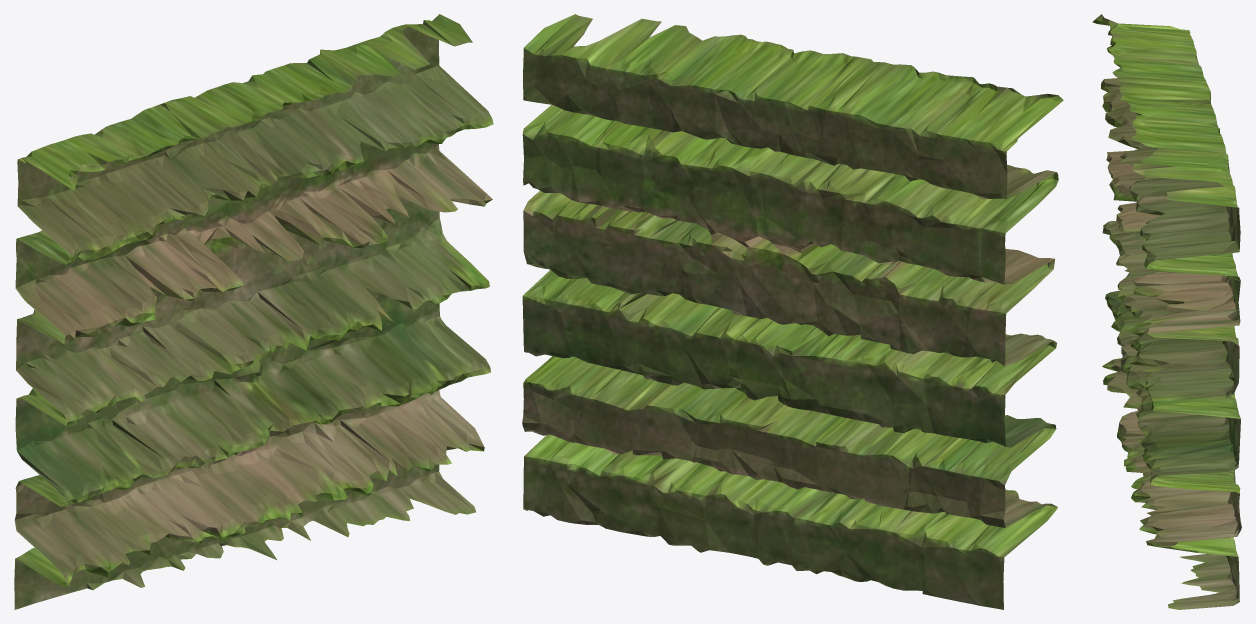
Rendered from map_250_70.obj.
3 renders of one model, left to right at view 1: azimuth 30°, elevation 25°; view 2: azimuth 150°, elevation 25°; view 3: azimuth 270°, elevation 25°, orthographic. The views are drawn at different scales.
Visible parts, largest first — view 1: grp1; view 2: grp1; view 3: grp1.
Part boxes in pixels (x1,y1,x2,y2): grp1: (14,14,493,609); grp1: (522,14,1063,609); grp1: (1092,14,1241,609).
Bounding box in the file's own units: 10 × 10 × 3.34.
Materials: 1 (1 with a texture image).
